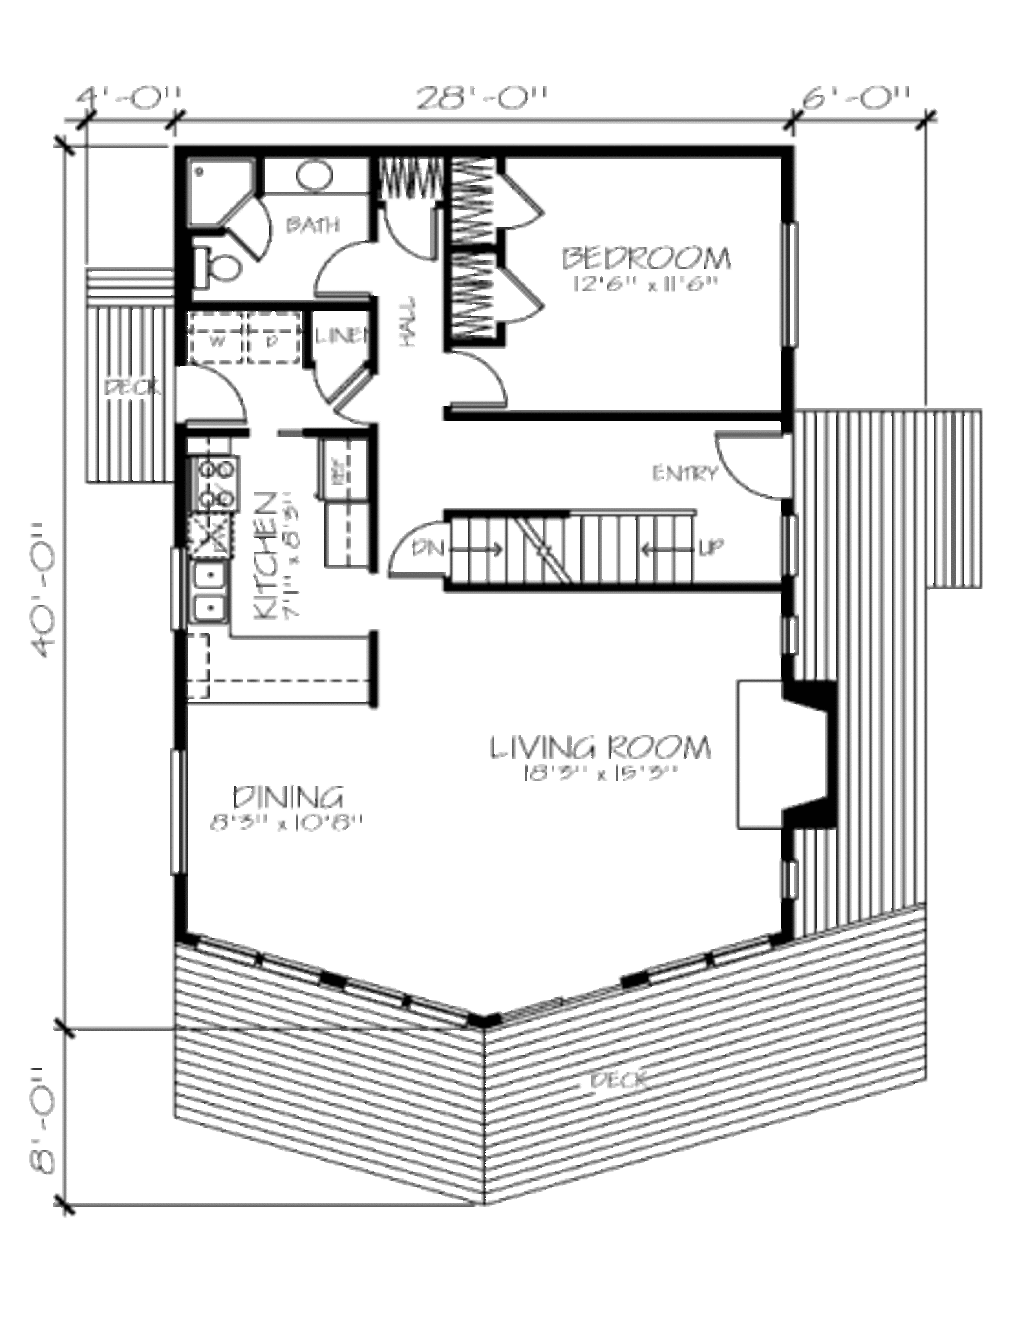door: (697, 424, 797, 501), (217, 189, 299, 267), (307, 240, 409, 301), (174, 364, 262, 426), (384, 195, 450, 268), (327, 375, 399, 438), (493, 256, 550, 334), (491, 179, 562, 242), (446, 350, 507, 407), (313, 350, 362, 403)
large_sink: (186, 238, 258, 289)
small_sink: (256, 154, 367, 195)
stairs: (435, 495, 717, 598)
twin_sink: (188, 560, 242, 621)
window: (633, 926, 788, 985), (193, 934, 337, 997), (770, 211, 823, 356), (346, 975, 478, 1032), (165, 748, 199, 883), (162, 542, 186, 630)
